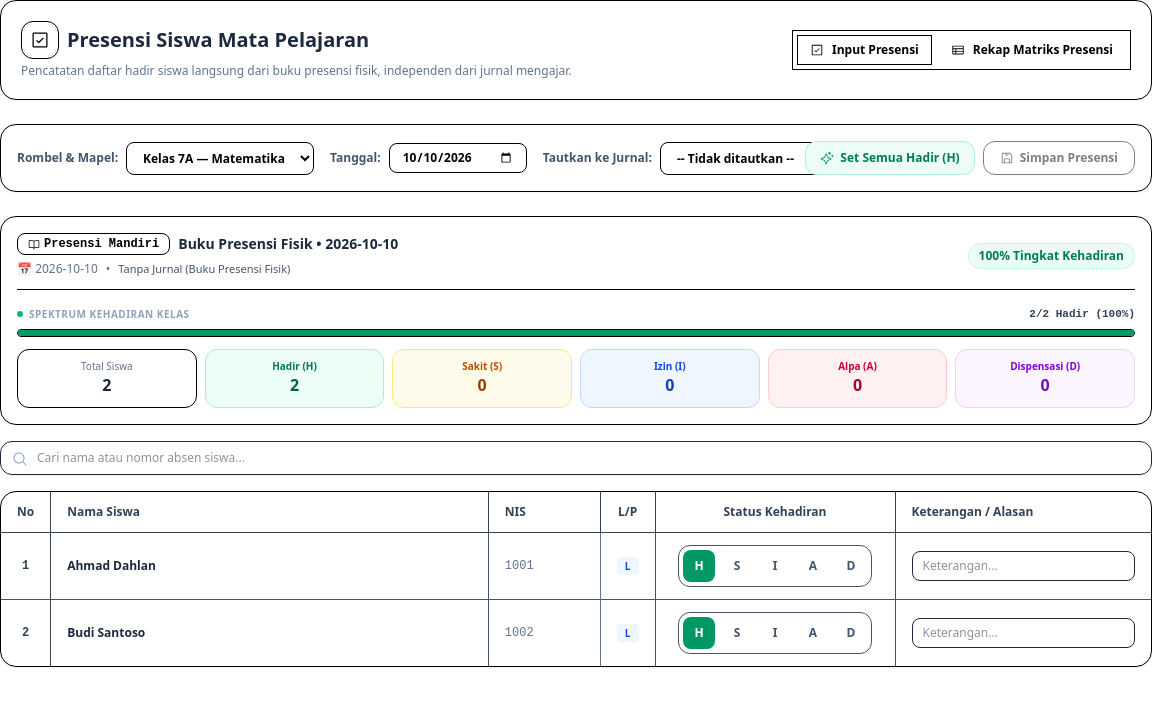
Test case: SubjectAttendancePage UX & Guard Implementation › 5. discards changes on modal discard: executes navigation and clears dirty state
expect the text "Ahmad Dahlan" is shown: met, box [67,558,156,574]
Click the button titled "Sakit (S)" in the row of "Ahmad Dahlan". click: [737, 566]
box: [721,550,753,582]
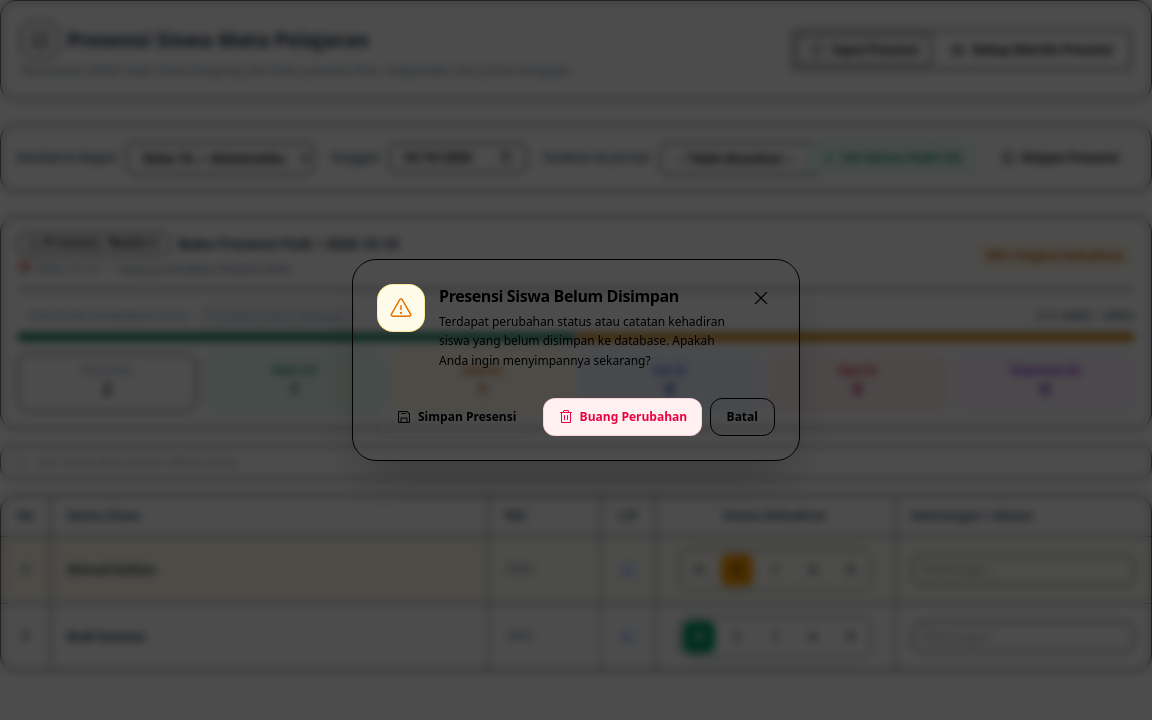
Click the button "Buang Perubahan". click: [622, 417]
box: [543,398,702,436]
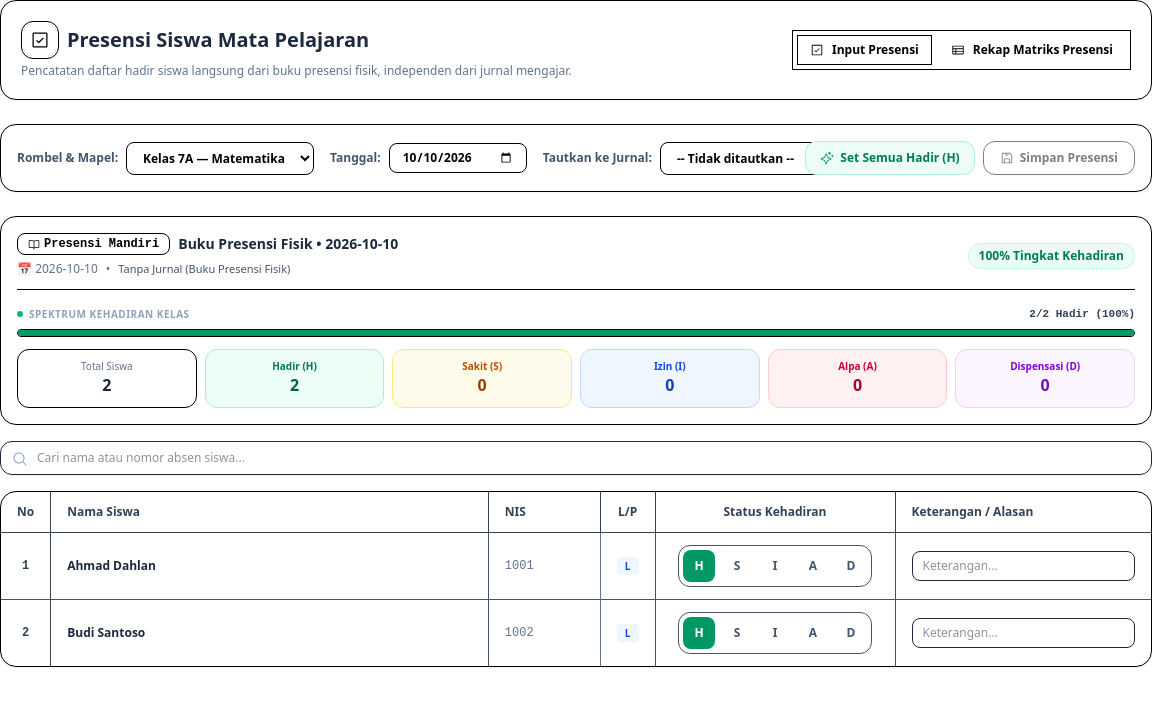
expect the dialog is gone: met
